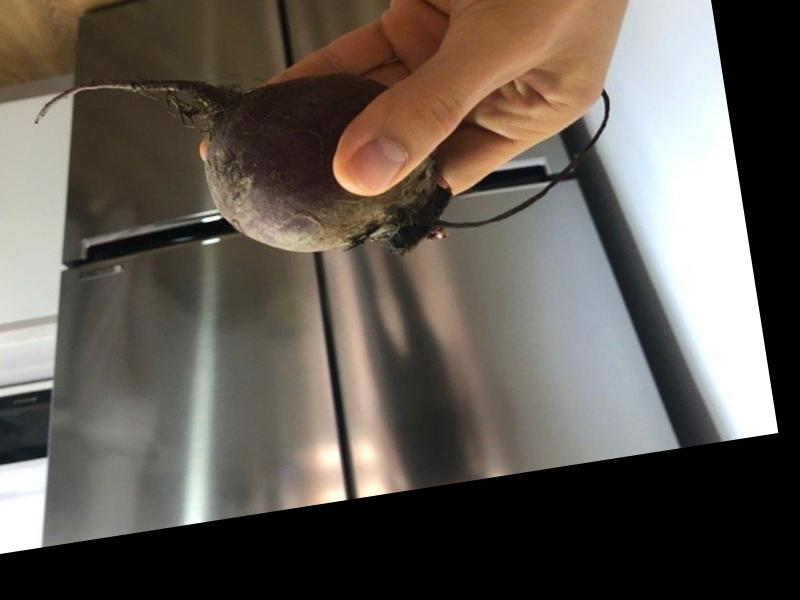Beet: (25, 4, 626, 303)
